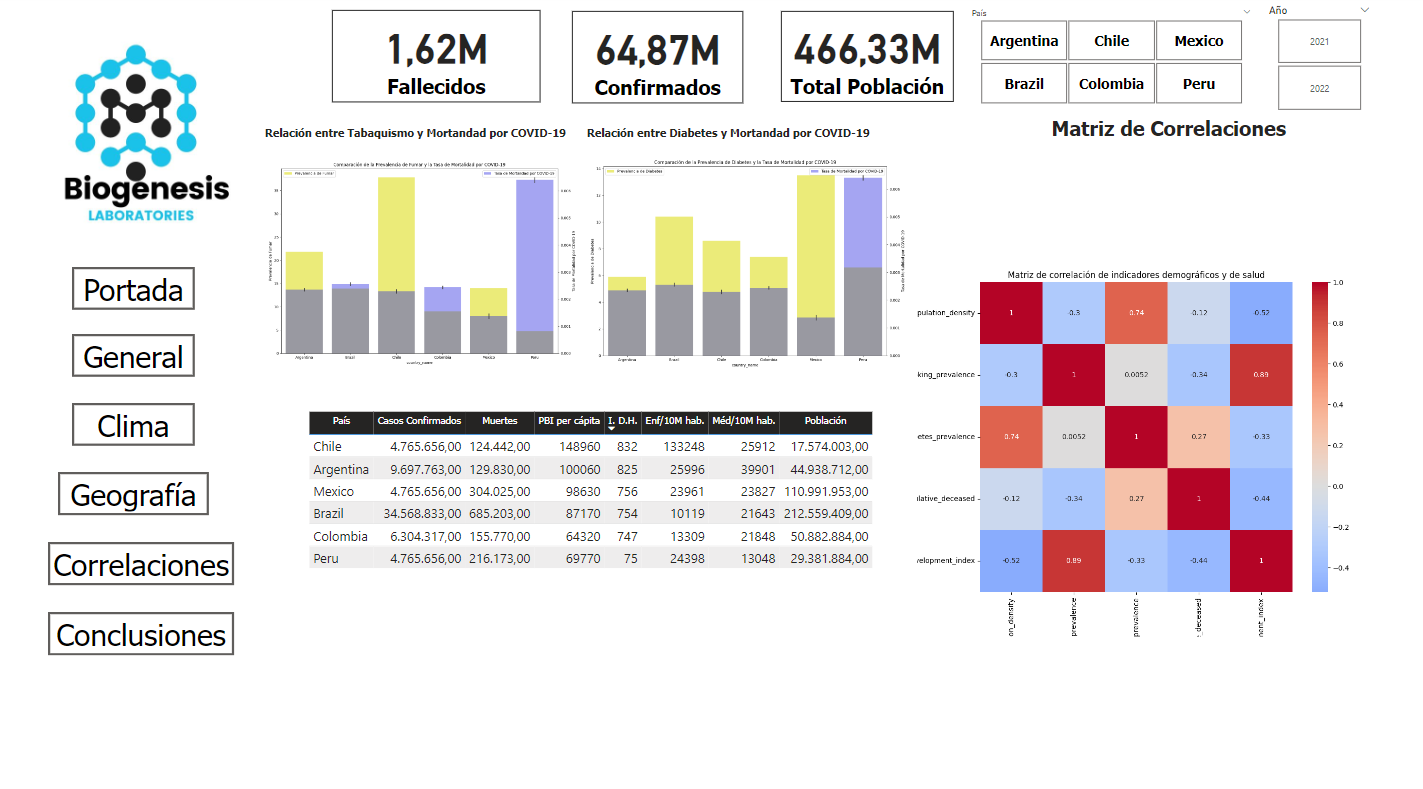

This screenshot's page, from the dashboard's own definition file:
{"tool":"powerbi","page":{"name":"Correlaciones","canvas":[1920,1080],"ordinal":4},"visuals":[{"type":"card","fields":{"Values":["DatosFinalesFiltrado.Total Población"]},"box":[1054,22,232,122],"z":0},{"type":"card","fields":{"Values":["DatosFinalesFiltrado.Fallecidos"]},"box":[452,20,280,124],"z":1000},{"type":"card","fields":{"Values":["DatosFinalesFiltrado.total_cum_conf"]},"box":[774,22,230,124],"z":2000},{"type":"tableEx","fields":{"Values":["DatosFinalesFiltrado.country_name","Max(DatosFinalesFiltrado.cumulative_confirmed_correct)","Max(DatosFinalesFiltrado.cumulative_deceased_correct)","Max(DatosFinalesFiltrado.gdp_per_capita_usd)","Max(DatosFinalesFiltrado.human_development_index)","Max(DatosFinalesFiltrado.nurses_per_1000)","Max(DatosFinalesFiltrado.physicians_per_1000)","Max(DatosFinalesFiltrado.population_correct)"]},"box":[415,555,816.7,238.3],"z":3000},{"type":"pythonVisual","fields":{"Values":["DatosFinalesFiltrado.diabetes_prevalence"]},"box":[1232.1,162.8,687.2,824.4],"z":4000},{"type":"pythonVisual","fields":{"Values":["data_latinoamerica_paises.diabetes_prevalence"]},"box":[788.5,175.6,443.6,351.3],"z":5000},{"type":"pythonVisual","fields":{"Values":["data_latinoamerica_paises.diabetes_prevalence"]},"box":[355.6,175.6,433.3,351.1],"z":6000},{"type":"image","box":[28.9,37.8,331.1,326.7],"z":7000},{"type":"slicer","fields":{"Values":["DatosFinalesFiltrado.country_name"]},"box":[1297.2,13.9,400,138.9],"z":8000},{"type":"slicer","fields":{"Values":["DatosFinalesFiltrado.date.Variation.Date Hierarchy.Year"]},"box":[1697.2,8.3,161.1,152.8],"z":9000},{"type":"actionButton","box":[102.5,365,165,57.5],"z":10000},{"type":"actionButton","box":[102.5,455,165,57.5],"z":11000},{"type":"actionButton","box":[102.5,547.5,165,57.5],"z":12000},{"type":"actionButton","box":[83.8,640.5,202.7,58.1],"z":13000},{"type":"actionButton","box":[70.3,735.1,250,58.1],"z":14000},{"type":"actionButton","box":[70,828.3,250,58.3],"z":15000}]}

Visuals, with their boxes in screenshot pixels (x1, y1, x2, y2), scaled from the page's 1920x1080 canvas onto the 1423x789 screenshot:
card - DatosFinalesFiltrado.Total Población: (781, 16, 953, 105)
card - DatosFinalesFiltrado.Fallecidos: (335, 15, 543, 105)
card - DatosFinalesFiltrado.total_cum_conf: (574, 16, 744, 107)
tableEx - DatosFinalesFiltrado.country_name x Max(DatosFinalesFiltrado.cumulative_confirmed_correct): (308, 405, 913, 580)
pythonVisual - DatosFinalesFiltrado.diabetes_prevalence: (913, 119, 1422, 721)
pythonVisual - data_latinoamerica_paises.diabetes_prevalence: (584, 128, 913, 385)
pythonVisual - data_latinoamerica_paises.diabetes_prevalence: (264, 128, 585, 385)
image: (21, 28, 267, 266)
slicer - DatosFinalesFiltrado.country_name: (961, 10, 1258, 112)
slicer - DatosFinalesFiltrado.date.Variation.Date Hierarchy.Year: (1258, 6, 1377, 118)
actionButton: (76, 267, 198, 309)
actionButton: (76, 332, 198, 374)
actionButton: (76, 400, 198, 442)
actionButton: (62, 468, 212, 510)
actionButton: (52, 537, 237, 579)
actionButton: (52, 605, 237, 648)
